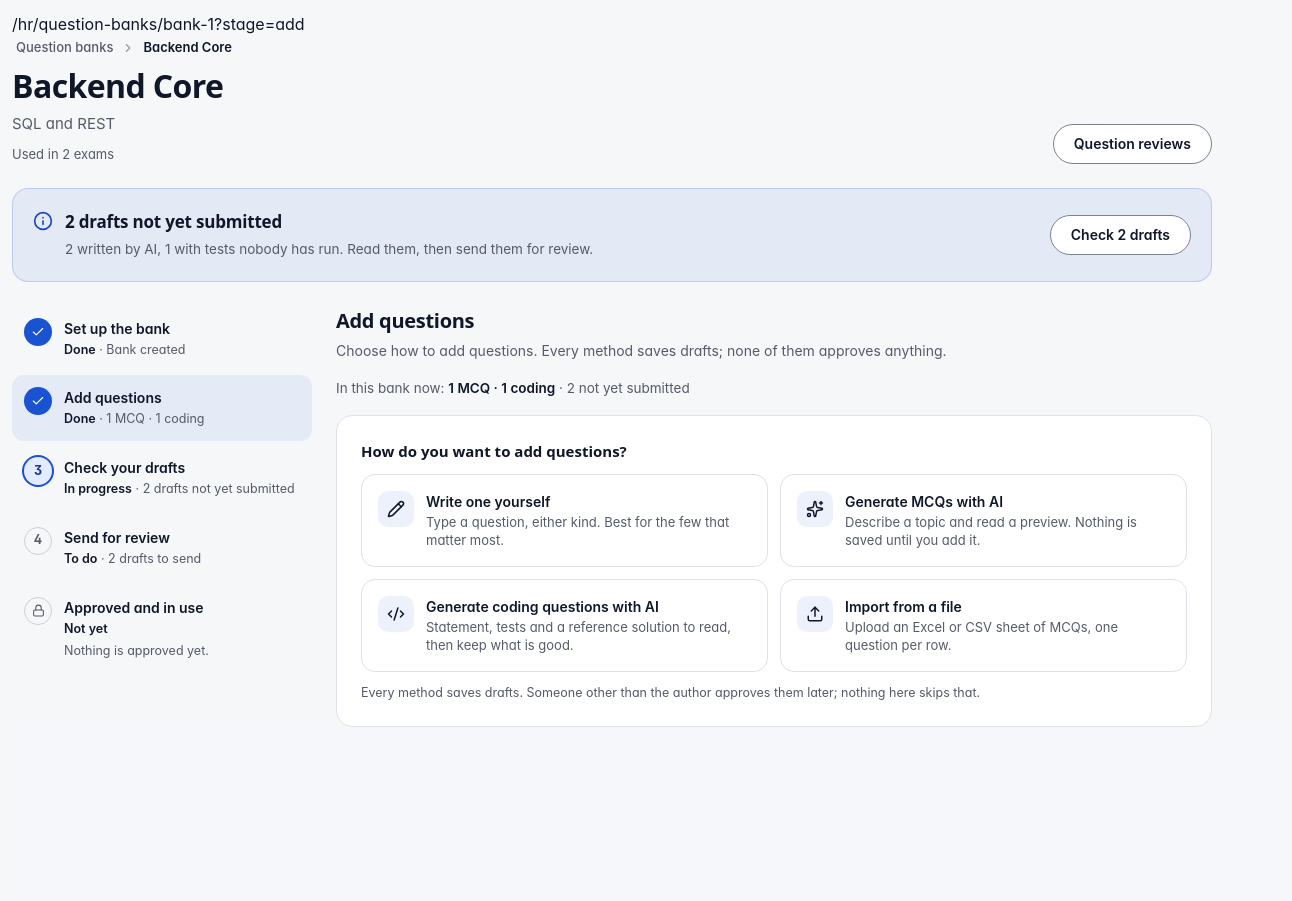
it: QuestionBankFlow - the next step strip › names the real next step and offers a way there only when you are elsewhere
Expected: the element with test id "bank-next-step" shows "2 drafts not yet submitted", left=65, top=210, right=282, bottom=233
Expected: the element with test id "bank-next-step" shows "2 written by AI", left=65, top=241, right=593, bottom=257
Step 1. Click the button "Check 2 drafts" → [1120, 235], box left=1050, top=215, right=1191, bottom=255
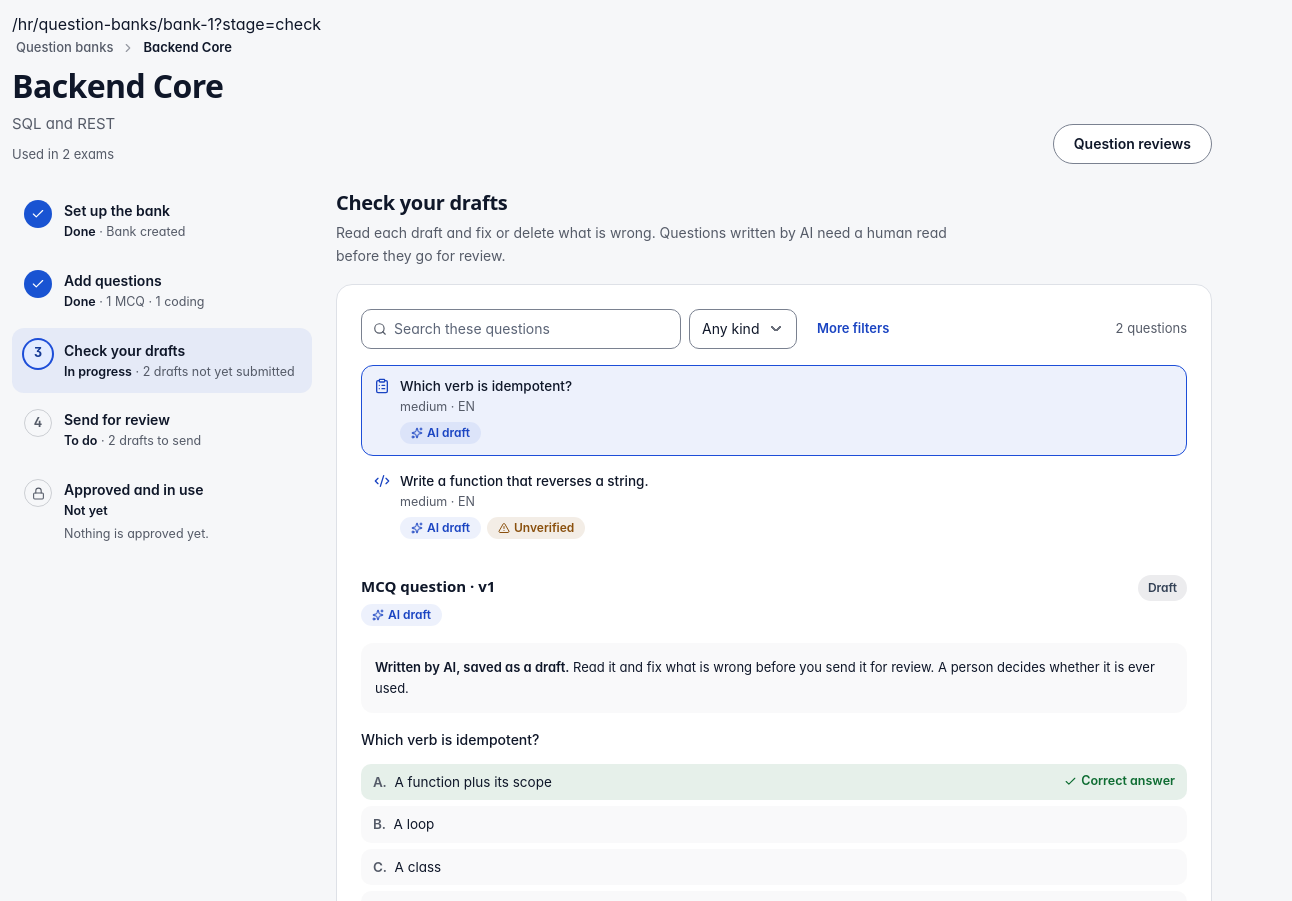
Result: the element with test id "bank-next-step" is gone
